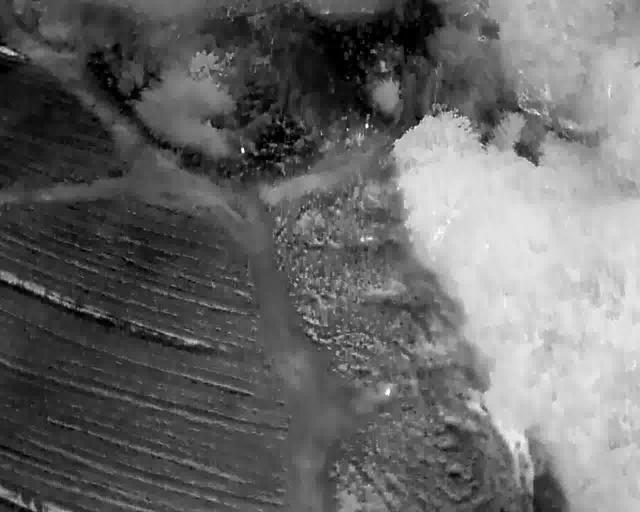person: (384, 348, 390, 355)
